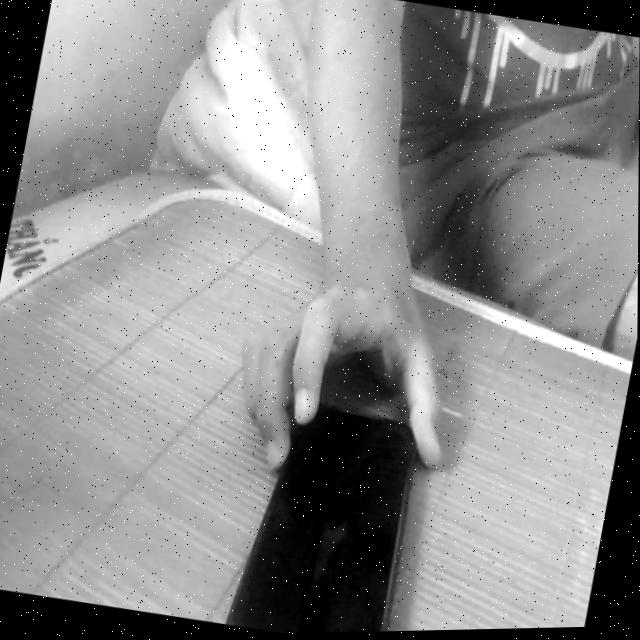phone: (219, 379, 452, 636)
